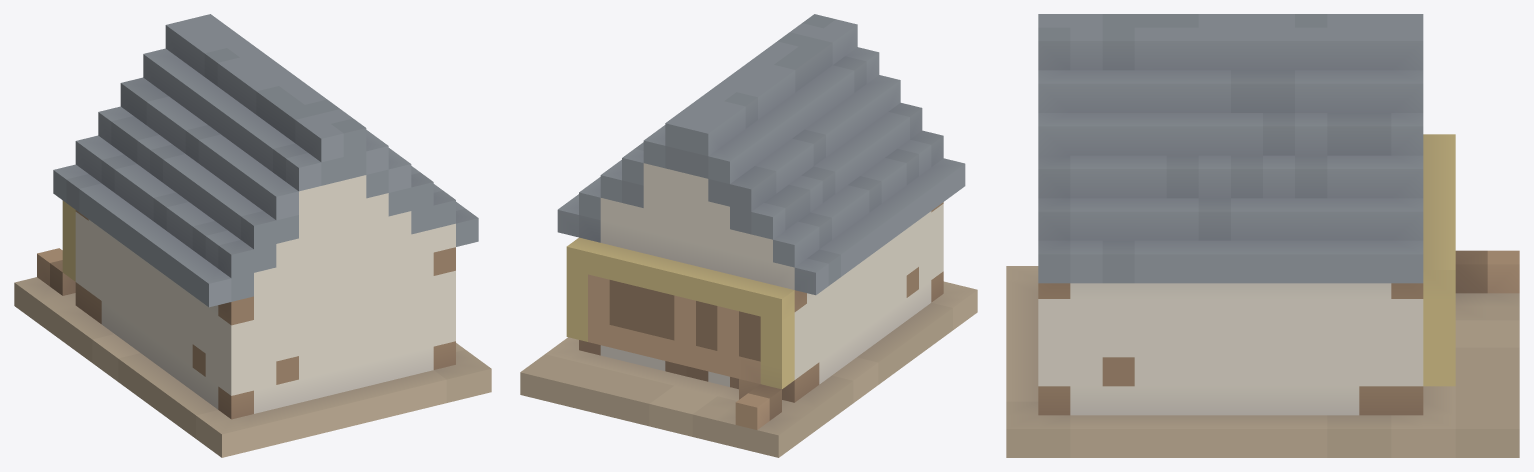
The model's file is leather_works.lite.glb.
3 views of the same model, side by side, from view 1: azimuth 30°, elevation 25°; view 2: azimuth 150°, elevation 25°; view 3: azimuth 270°, elevation 25° (orthographic). The views are drawn at different scales.
Visible parts, largest first — view 1: leather_works; view 2: leather_works; view 3: leather_works.
Part boxes in pixels (left/top/right/bottom): leather_works: left=14, top=14, right=491, bottom=457; leather_works: left=520, top=14, right=977, bottom=457; leather_works: left=1006, top=14, right=1519, bottom=457.
Size of the model in its own units: 3 by 3 by 4.
